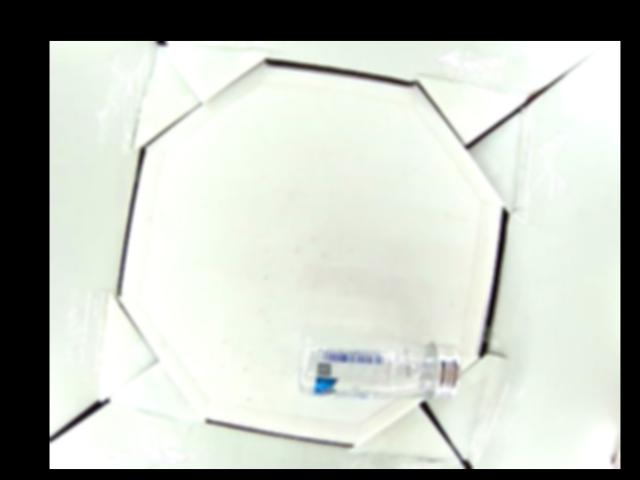Bottle: (298, 333, 462, 405)
